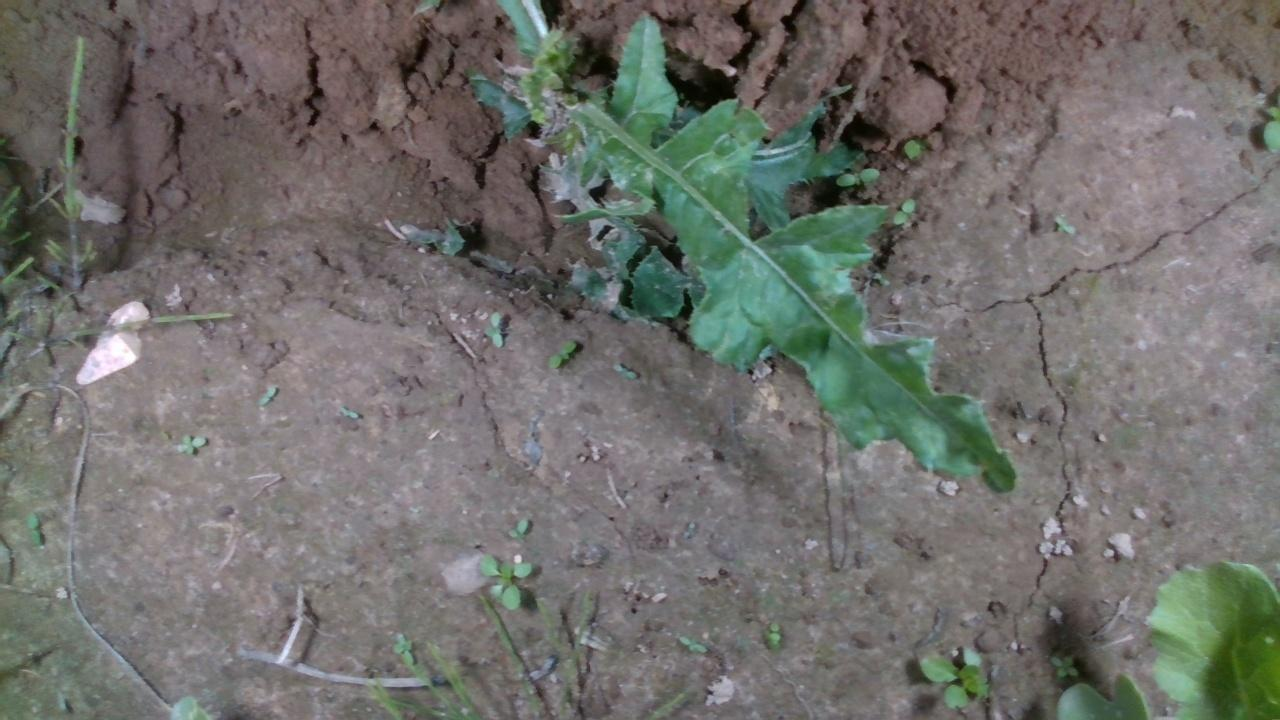weed: (546, 337, 576, 369), (480, 310, 503, 349), (1046, 653, 1080, 678), (175, 431, 207, 456), (25, 509, 43, 547), (676, 633, 708, 653), (1052, 213, 1077, 234), (258, 382, 279, 406), (507, 517, 529, 539), (611, 361, 637, 378), (766, 617, 780, 648)
